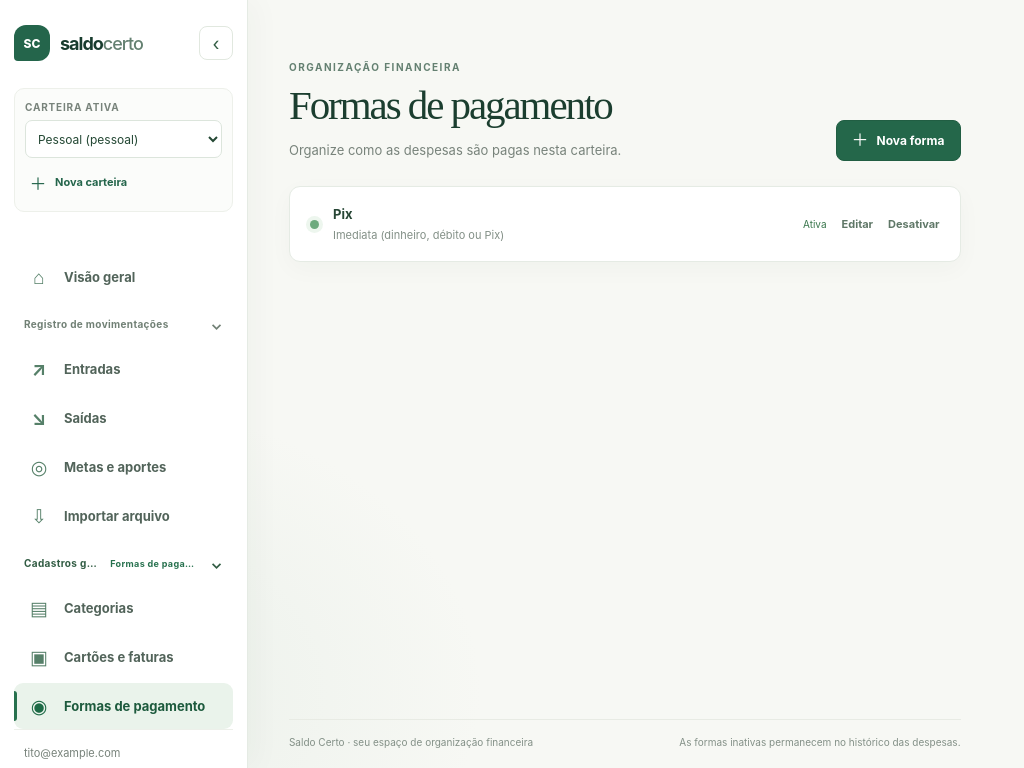
Test: PaymentMethodsPage › creates a method with a selected nature
Expected: the dropdown labelled "Carteira ativa" is shown, [25,120,222,158]
Expected: the heading "Pix" is shown, [333,206,352,222]
Step 1. Click the button "＋ Nova forma" → (898, 141), box [836,120,961,161]
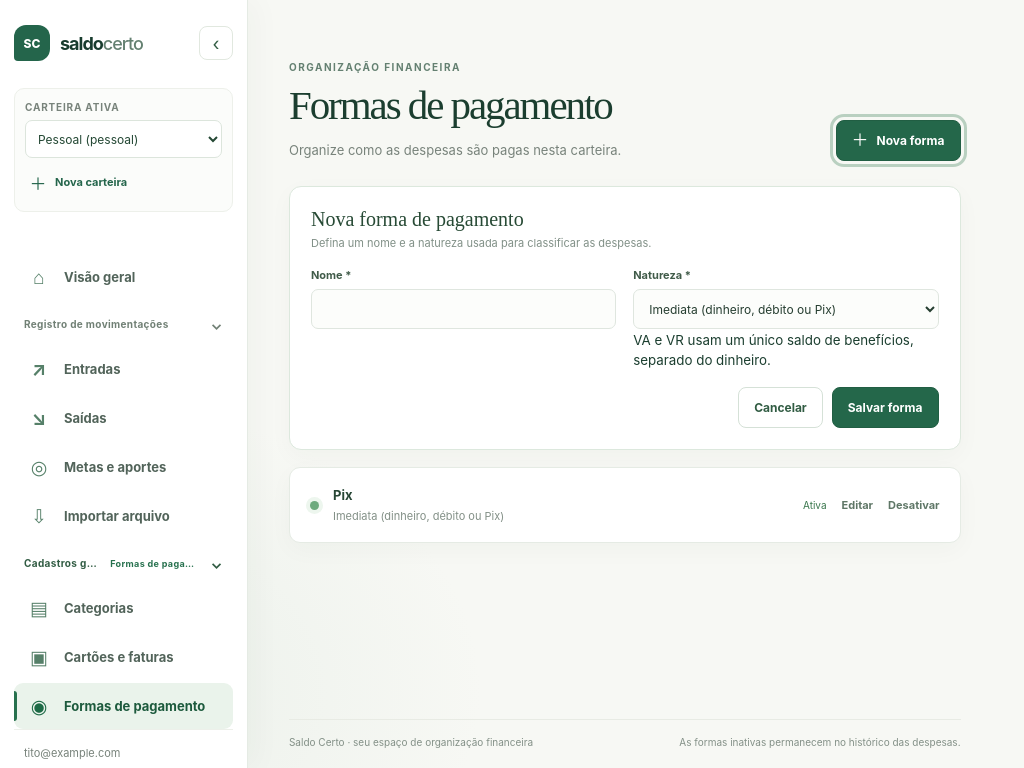
Step 2. Type "Cartão da conta" into the field labelled "Nome *" → (464, 309), box [311,289,616,329]
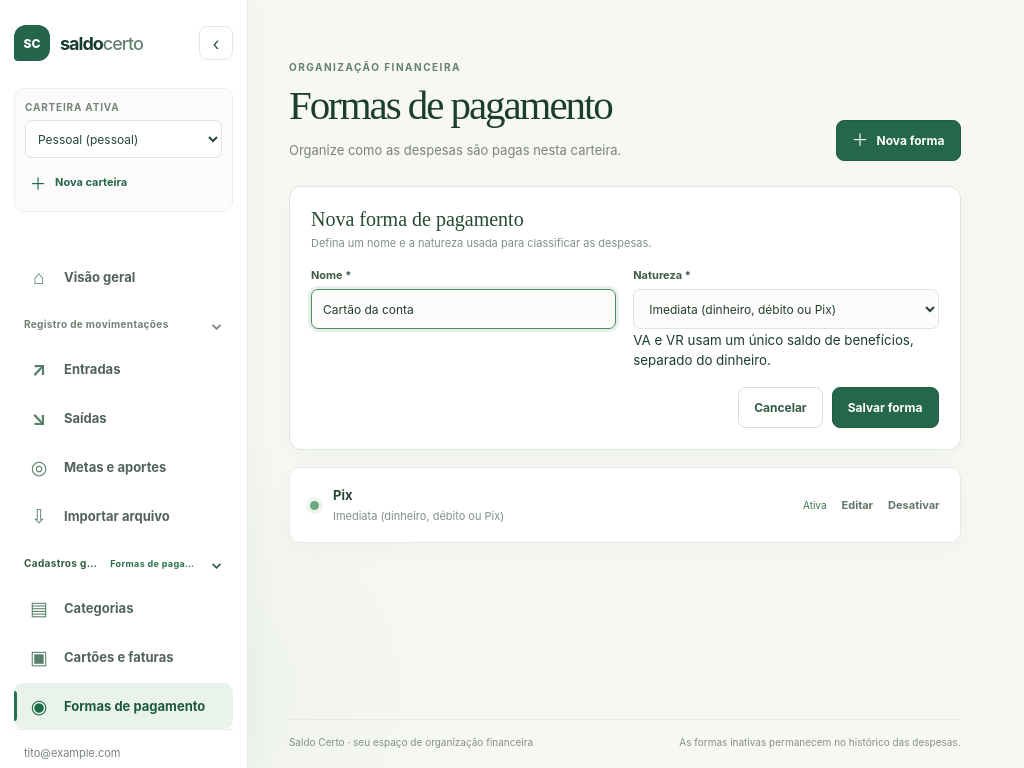
Step 3. Select "Cartão de crédito" in the dropdown labelled "Natureza *" → (786, 309), box [633,289,938,329]
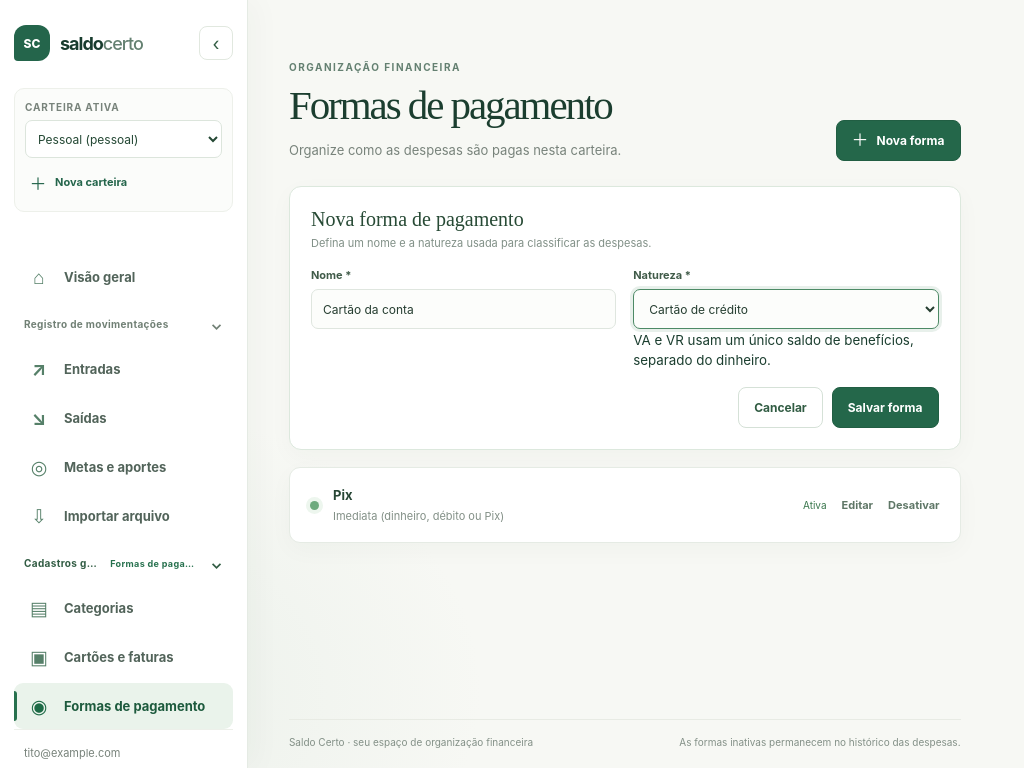
Step 4. Click the button "Salvar forma" → (885, 408), box [832,387,939,428]
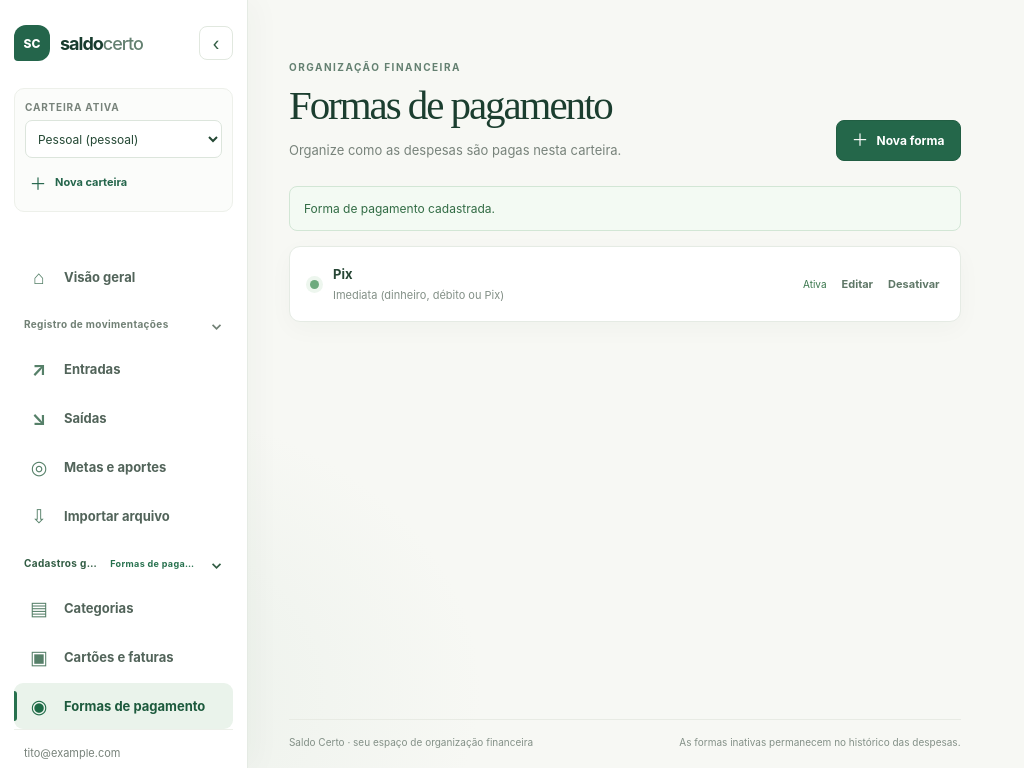
Now the message reads "Forma de pagamento cadastrada.", box [304,201,495,216]
